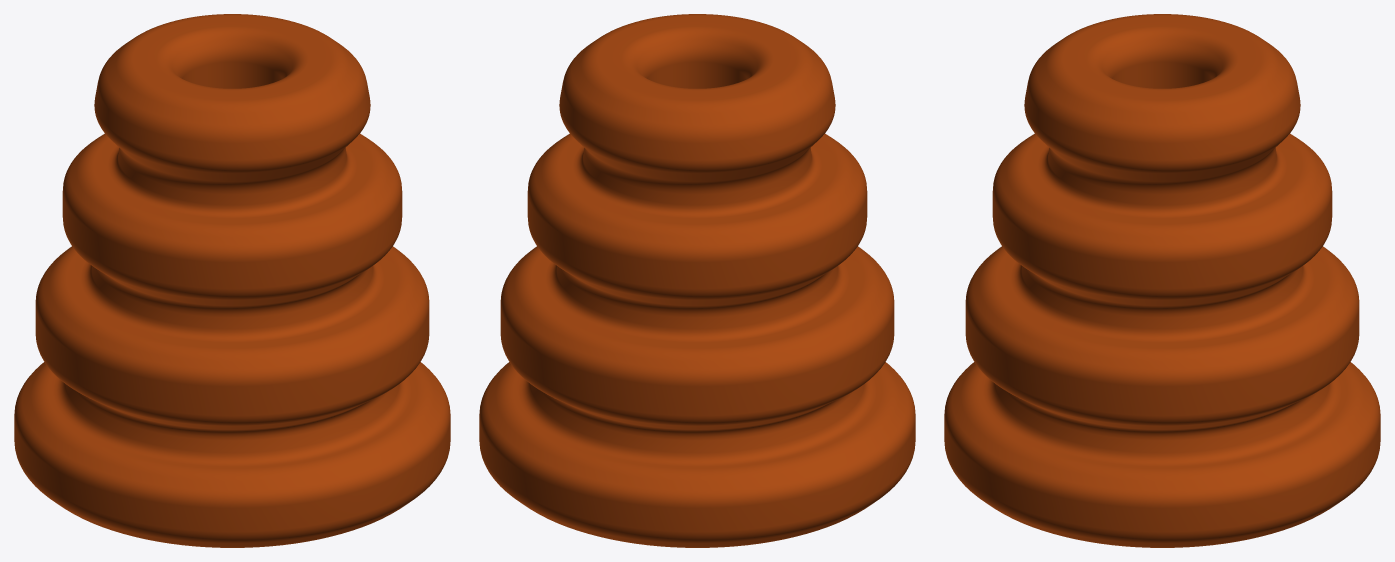
The model's file is bump-stop.glb.
The picture shows the model from 3 angles, left to right: view 1: azimuth 30°, elevation 25°; view 2: azimuth 150°, elevation 25°; view 3: azimuth 270°, elevation 25°; orthographic projection.
Visible parts, largest first — view 1: body; view 2: body; view 3: body.
Boxes of the visible parts, x1,y1,x2,y2 form: body: [14, 14, 450, 547]; body: [479, 14, 915, 547]; body: [944, 14, 1380, 547].
Bounding box in the file's own units: 1.44 × 1.49 × 1.44.
